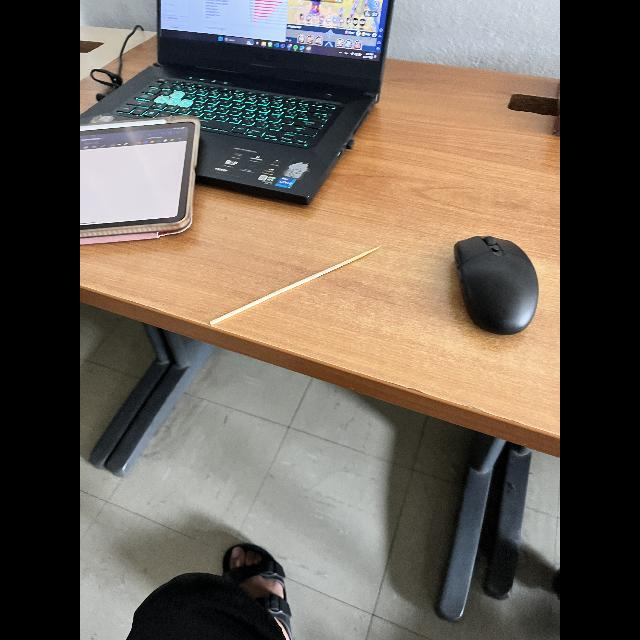stick: (195, 240, 388, 340)
